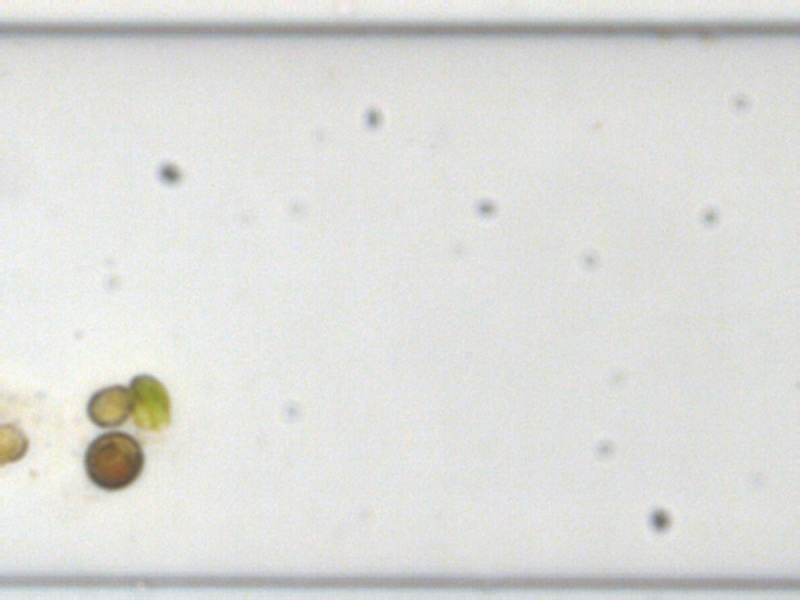Effrenium: (82, 433, 144, 490), (87, 384, 128, 424), (0, 427, 27, 465)
Platymonas: (127, 373, 175, 433)
